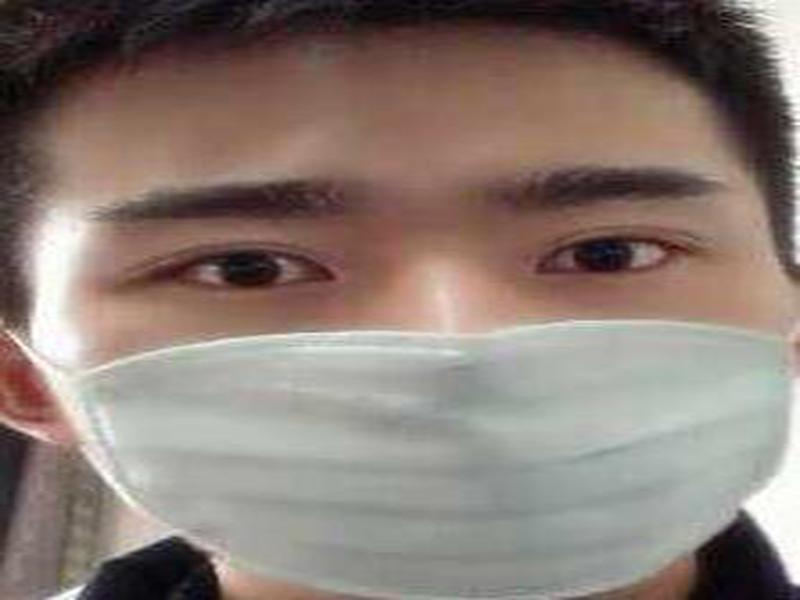with_mask: (26, 32, 800, 600)
